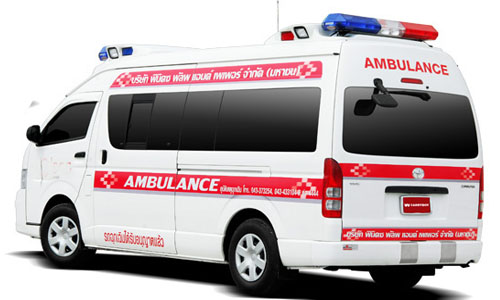van: (14, 14, 485, 295)
